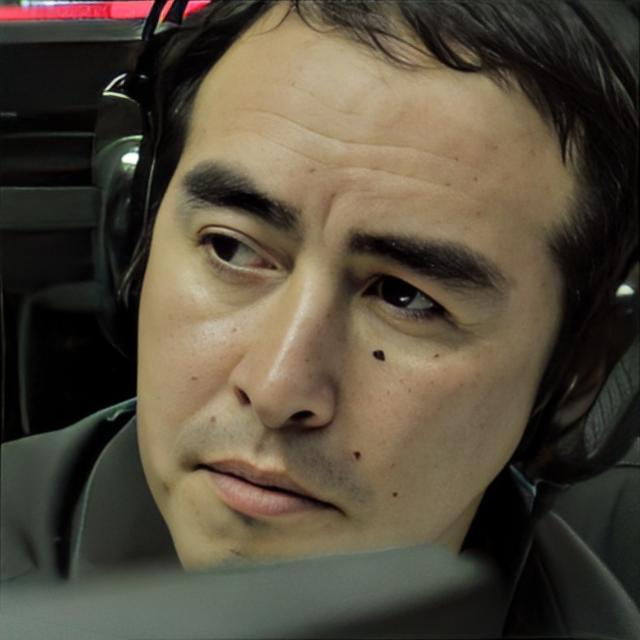sad: (132, 0, 560, 562)
